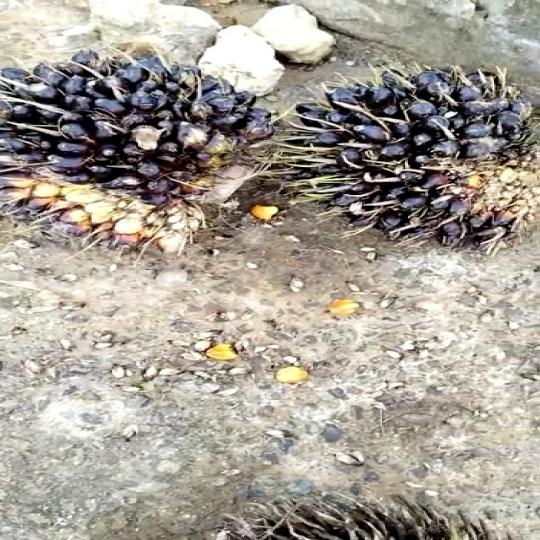mentah: (0, 45, 287, 269), (289, 55, 540, 260)
